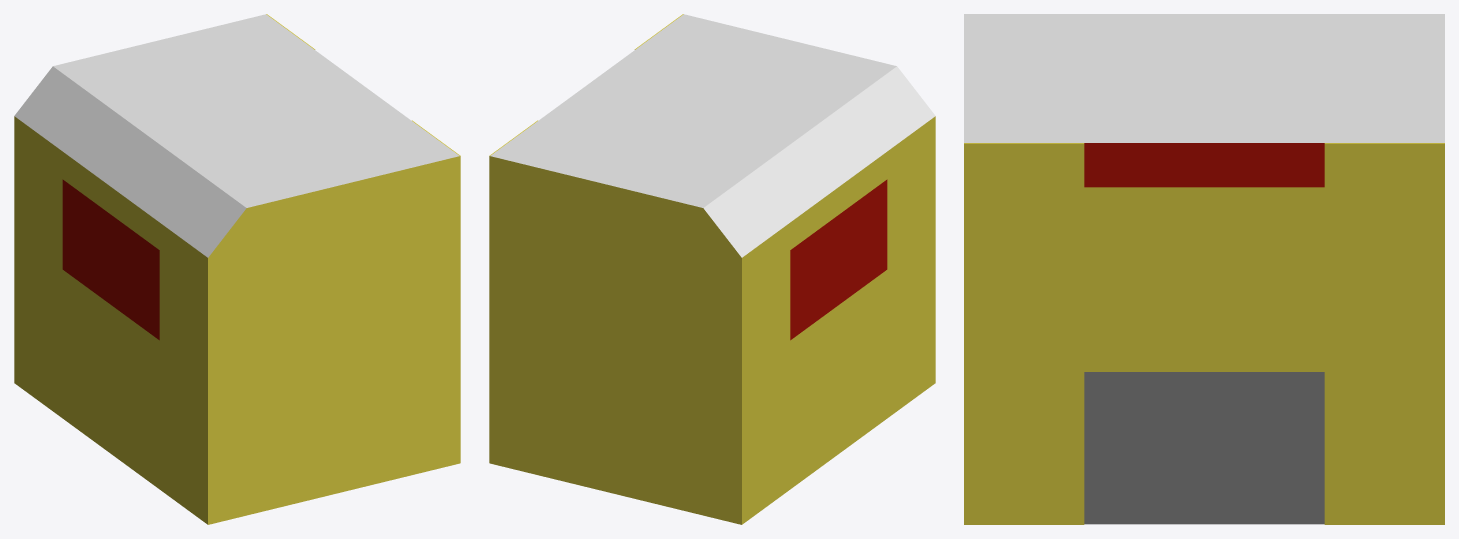
The model's file is coupe_box (4).fbx.
3 views of the same model, side by side, from view 1: azimuth 30°, elevation 25°; view 2: azimuth 150°, elevation 25°; view 3: azimuth 270°, elevation 25° (orthographic). The views are drawn at different scales.
Visible parts, largest first — view 1: Cube; view 2: Cube; view 3: Cube.
Boxes of the visible parts, bbox=[...] form: Cube: bbox=[14, 14, 460, 524]; Cube: bbox=[489, 14, 935, 524]; Cube: bbox=[964, 14, 1444, 524].
Size of the model in its own units: 301 by 350 by 400.
